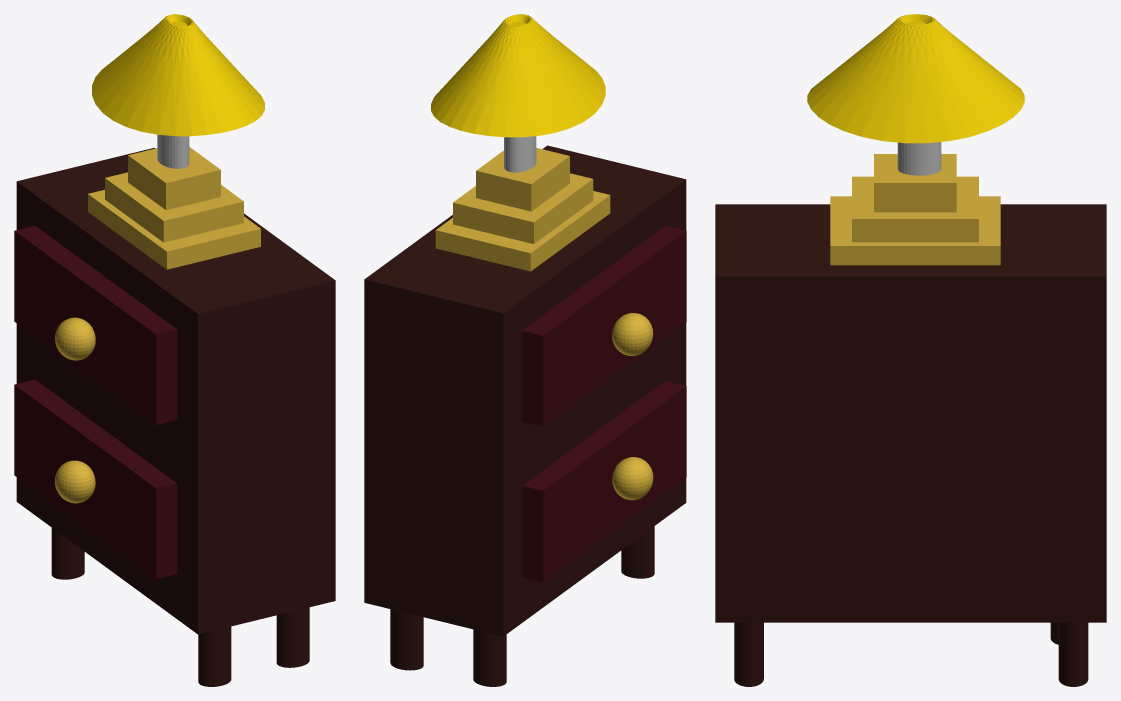
Rendered from lamp_yellow.fbx.
3 views of the same model, side by side, from view 1: azimuth 30°, elevation 25°; view 2: azimuth 150°, elevation 25°; view 3: azimuth 270°, elevation 25° (orthographic). The views are drawn at different scales.
Parts seen in each view (by area): view 1: Sphere.007; view 2: Sphere.007; view 3: Sphere.007.
Part boxes in pixels (left/top/right/bottom): Sphere.007: left=14, top=14, right=335, bottom=686; Sphere.007: left=364, top=14, right=686, bottom=686; Sphere.007: left=715, top=14, right=1106, bottom=686.
Size of the model in its own units: 1.28 by 3.7 by 2.05.
